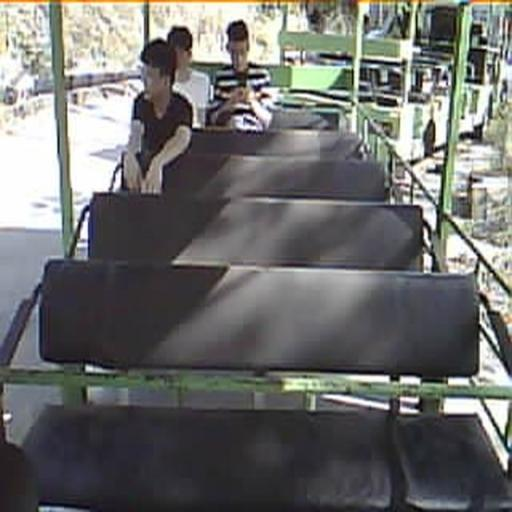persona: (122, 38, 194, 196), (210, 19, 274, 134), (156, 24, 214, 132)
